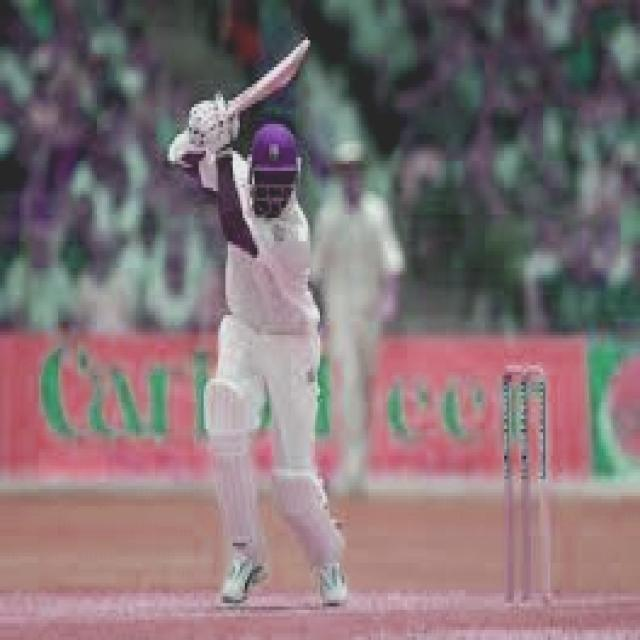bat: (226, 39, 309, 111)
